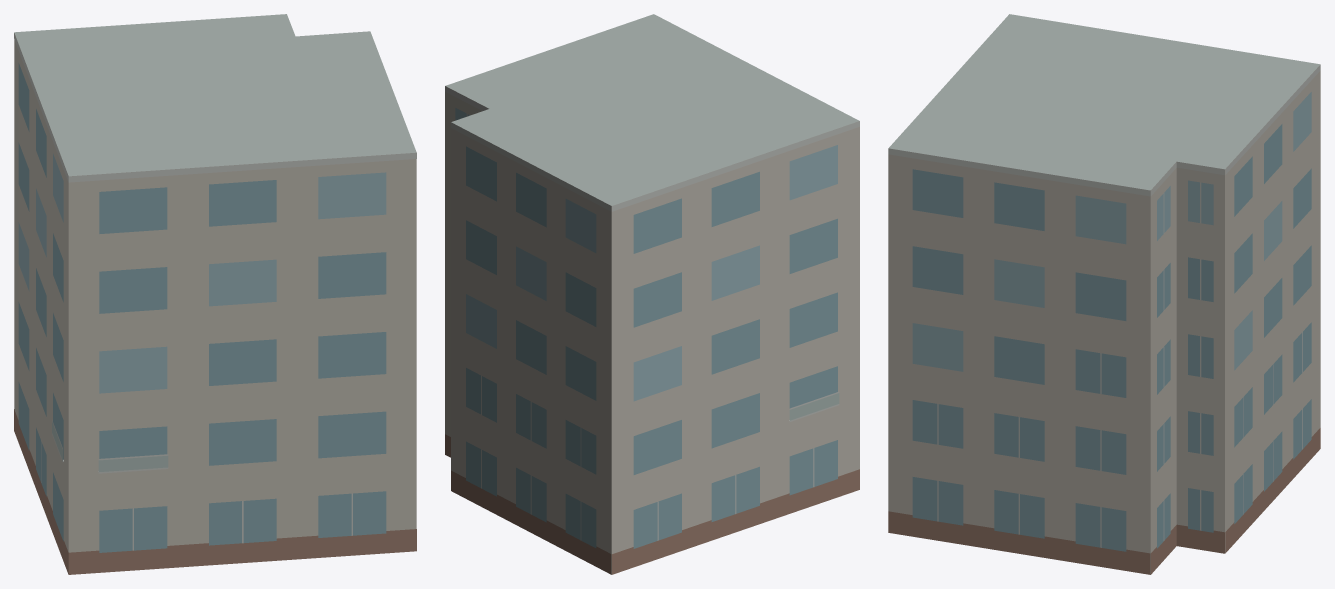
Rendered from survey-upis-32874327.glb.
The picture shows the model from 3 angles, left to right: view 1: azimuth 30°, elevation 25°; view 2: azimuth 150°, elevation 25°; view 3: azimuth 270°, elevation 25°; orthographic projection. The views are drawn at different scales.
Parts seen in each view (by area): view 1: survey-upis-32874327.tmp; view 2: survey-upis-32874327.tmp; view 3: survey-upis-32874327.tmp.
Boxes of the visible parts, x1,y1,x2,y2 form: survey-upis-32874327.tmp: [14, 14, 416, 574]; survey-upis-32874327.tmp: [445, 14, 859, 574]; survey-upis-32874327.tmp: [888, 14, 1320, 574].
Size of the model in its own units: 15.37 by 15.6 by 15.91.
